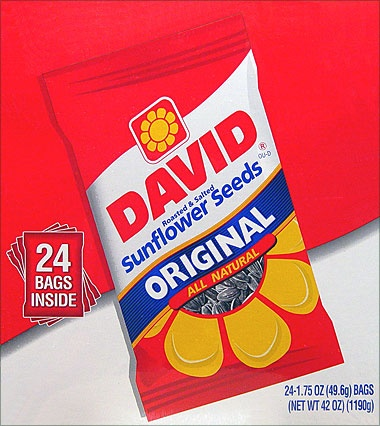grozi_79: (41, 11, 346, 420)
